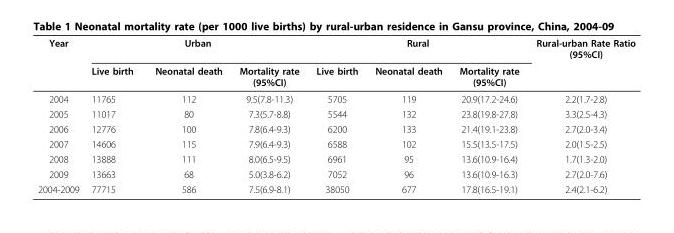table: (37, 36, 634, 194)
table column: (527, 36, 634, 194), (143, 36, 230, 194), (365, 36, 450, 194), (230, 36, 307, 194), (450, 36, 527, 194), (84, 36, 143, 194), (307, 36, 365, 194), (37, 36, 84, 194)
table column header: (37, 36, 634, 90)
table row: (37, 62, 634, 90), (37, 36, 634, 62), (37, 90, 634, 106), (37, 106, 634, 121), (37, 121, 634, 136), (37, 136, 634, 151), (37, 151, 634, 166), (37, 166, 634, 181), (37, 181, 634, 194)
table spanning cell: (84, 36, 307, 62), (527, 36, 634, 90), (307, 36, 527, 62), (37, 36, 84, 90)
